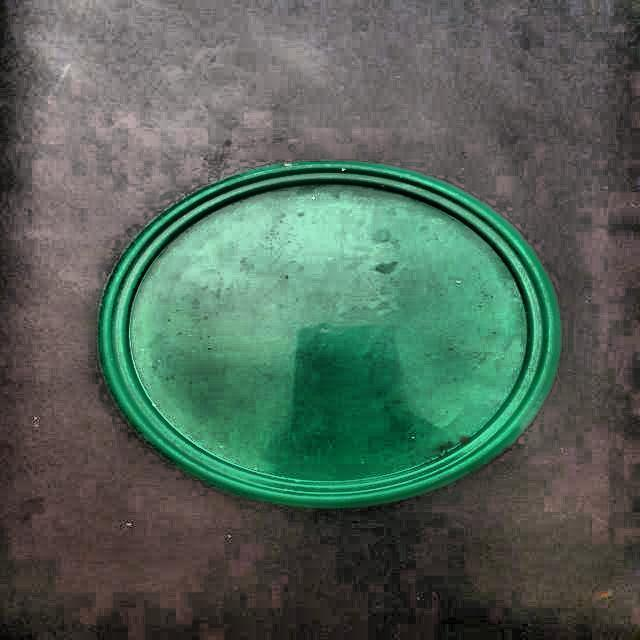plastic: (95, 161, 562, 508)
